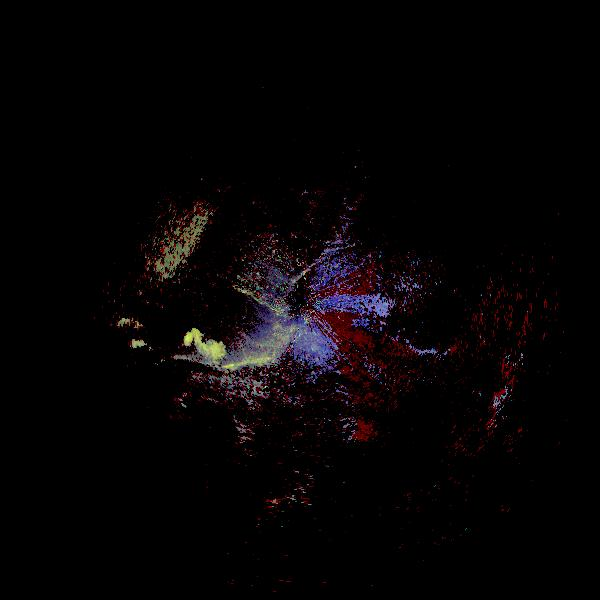roost: (117, 300, 240, 423)
